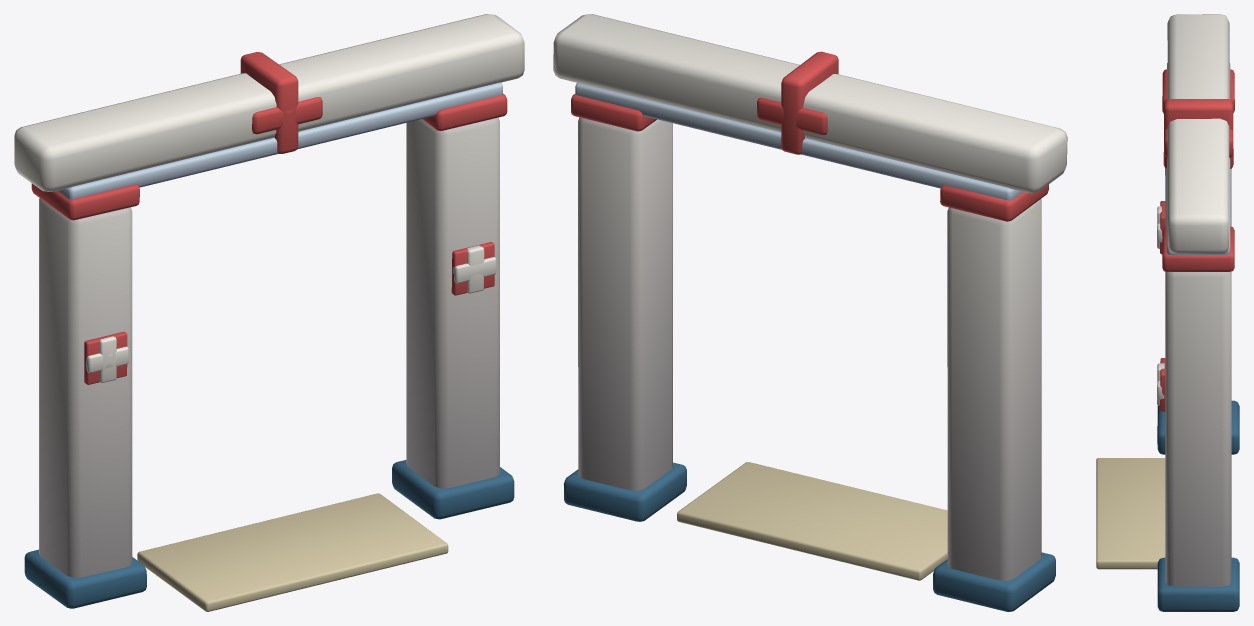
3 views of the same model, side by side, from view 1: azimuth 30°, elevation 25°; view 2: azimuth 150°, elevation 25°; view 3: azimuth 270°, elevation 25° (orthographic). The views are drawn at different scales.
Visible parts, largest first — view 1: gate_9b1f0b83; view 2: gate_9b1f0b83; view 3: gate_9b1f0b83.
Part boxes in pixels (left/top/right/bottom): gate_9b1f0b83: left=14, top=14, right=524, bottom=611; gate_9b1f0b83: left=553, top=14, right=1067, bottom=611; gate_9b1f0b83: left=1096, top=14, right=1239, bottom=611.
Size of the model in its own units: 4.79 by 4.49 by 1.4.
